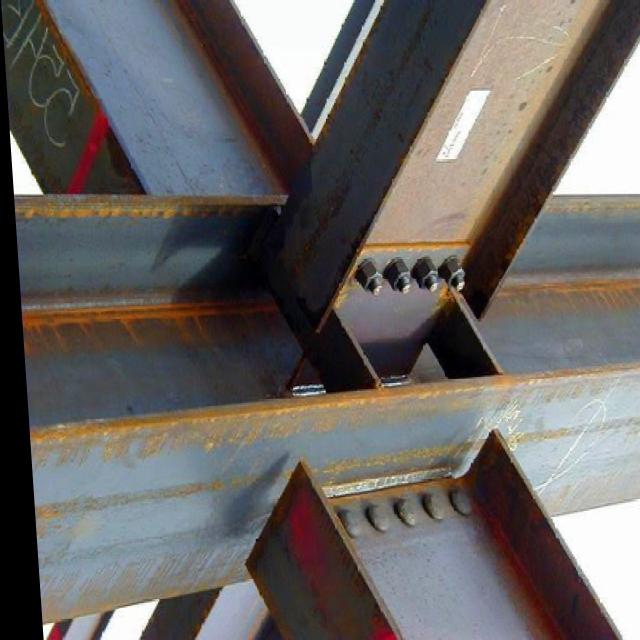Regular bolt: (348, 258, 386, 306), (407, 251, 442, 299), (379, 255, 413, 299), (435, 257, 469, 294)
